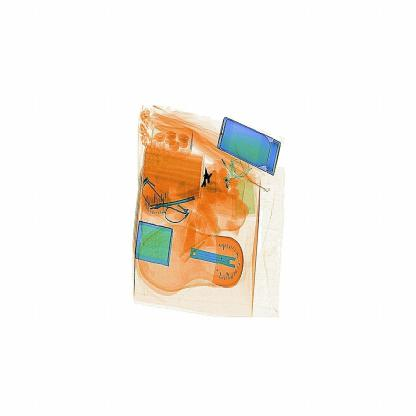gun: (192, 161, 232, 204)
